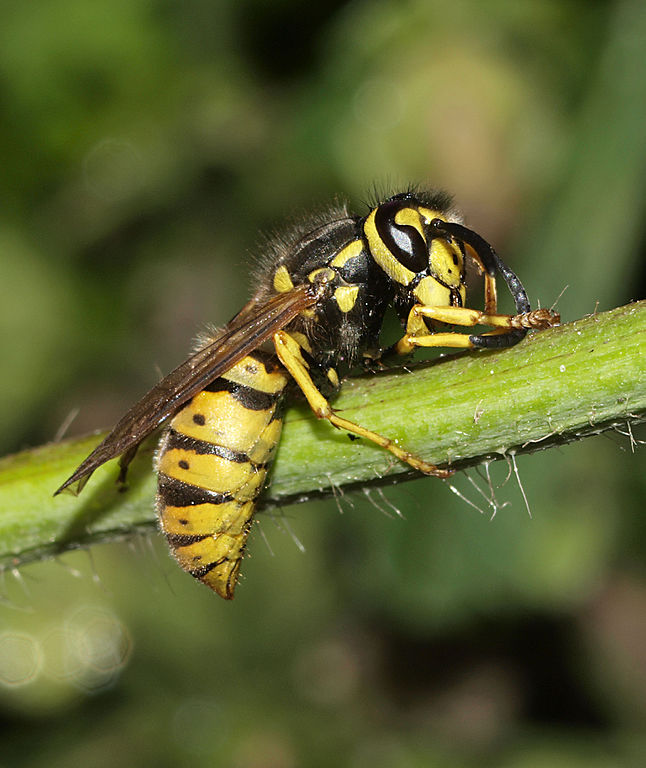chax: (43, 172, 578, 619)
